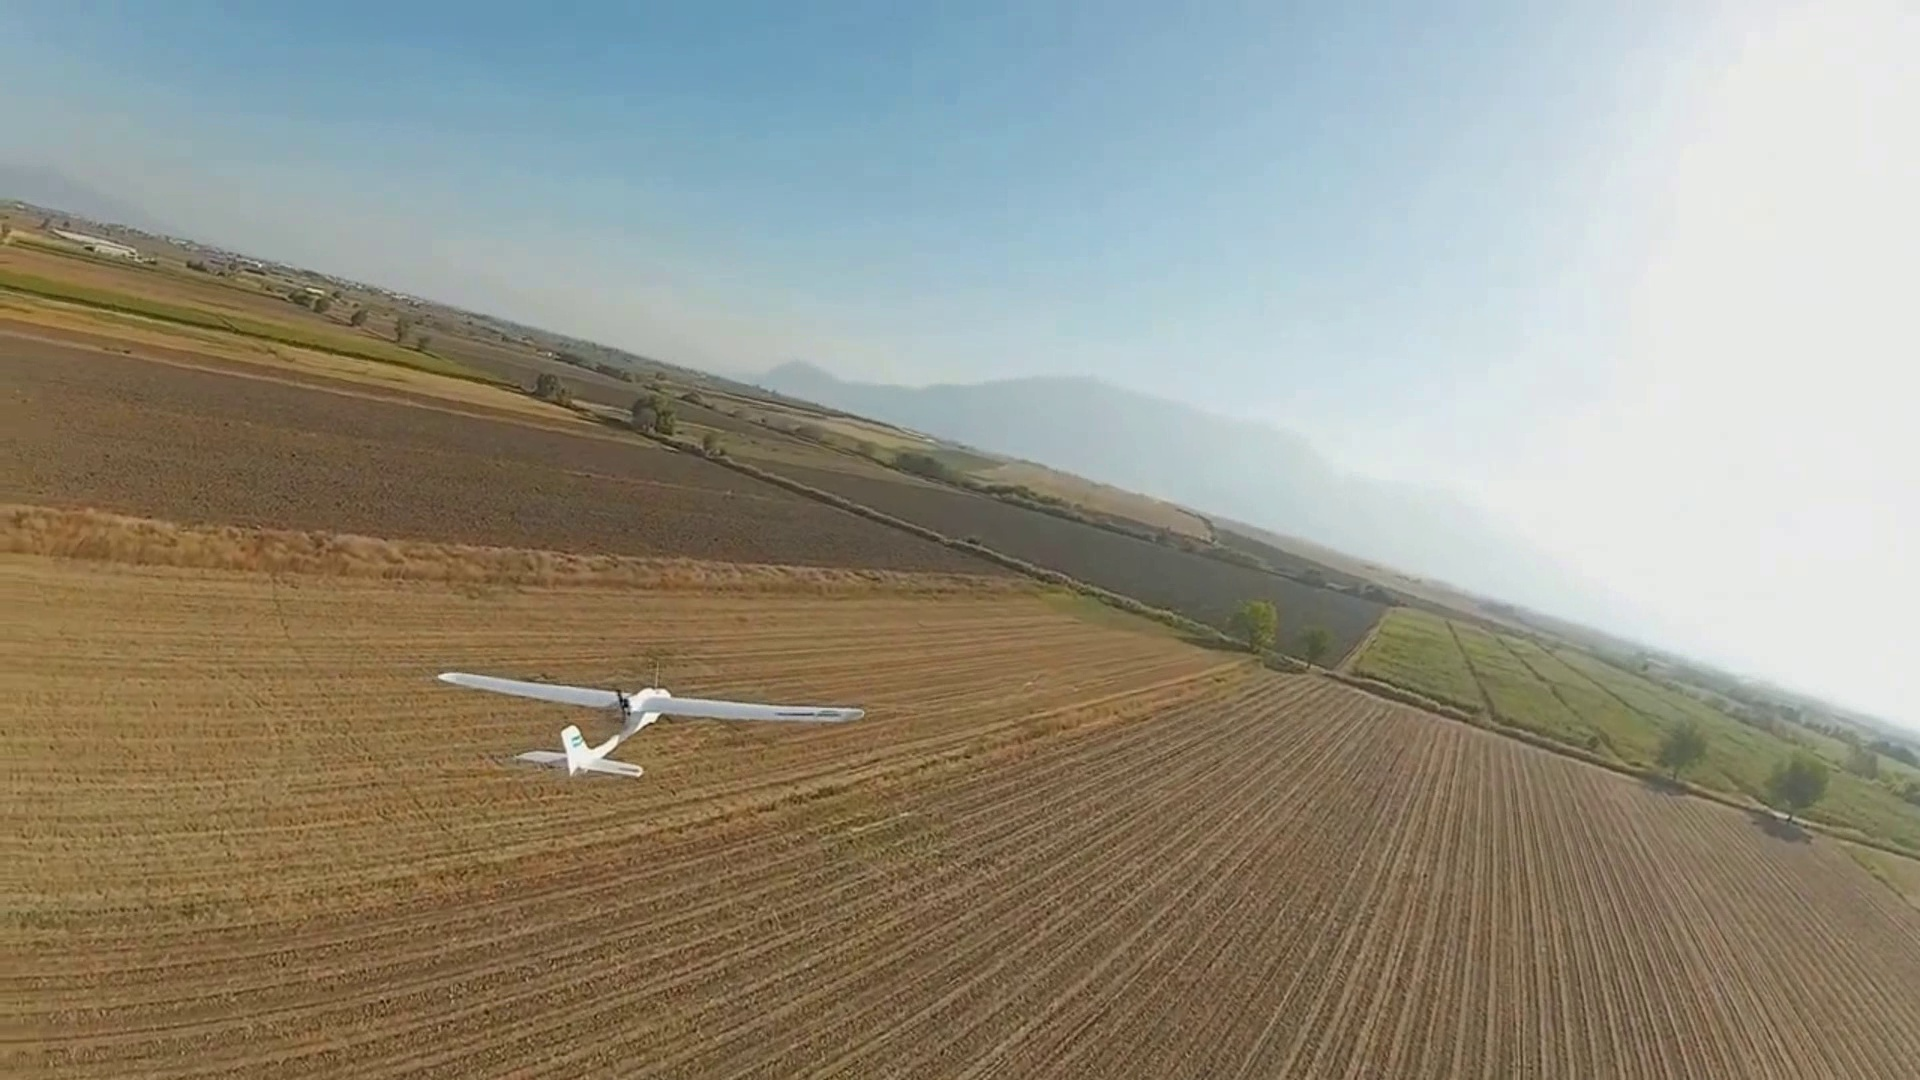airplane: (433, 669, 866, 779)
